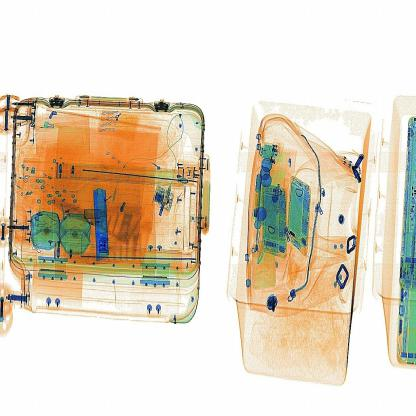scissors: (82, 179, 120, 274)
